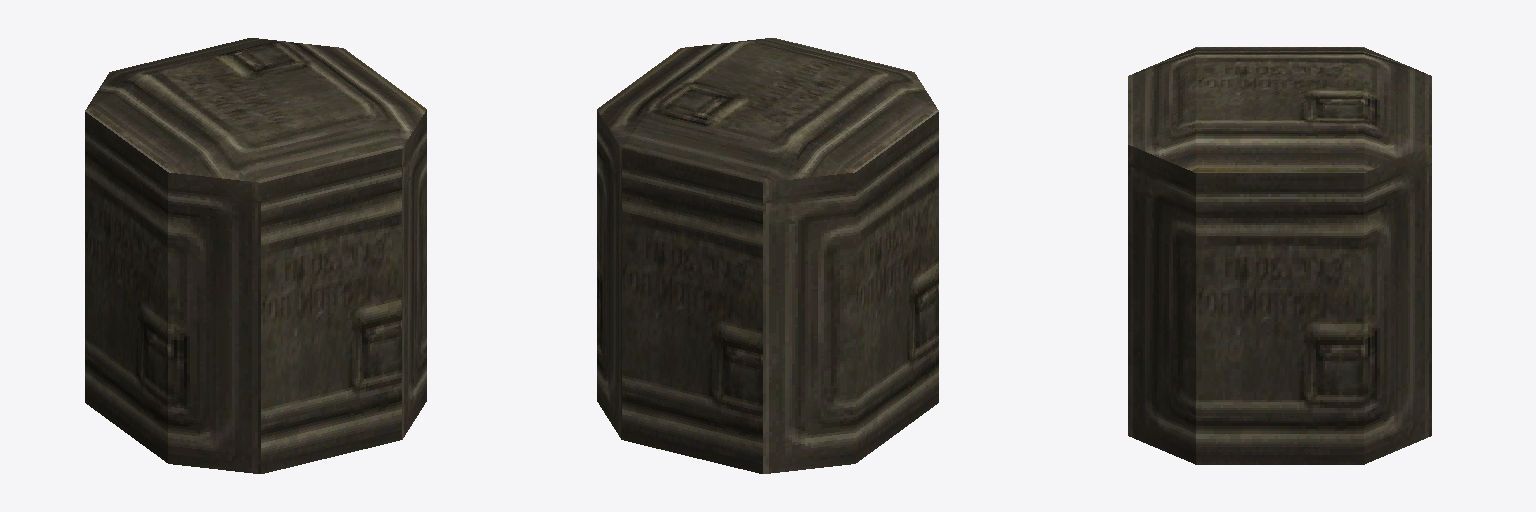
3 views of the same model, side by side, from view 1: azimuth 30°, elevation 25°; view 2: azimuth 150°, elevation 25°; view 3: azimuth 270°, elevation 25° (orthographic).
Parts seen in each view (by area): view 1: ammo_jackhammer.ammo_jackhammer.smd.mesh_0; view 2: ammo_jackhammer.ammo_jackhammer.smd.mesh_0; view 3: ammo_jackhammer.ammo_jackhammer.smd.mesh_0.
Part boxes in pixels (left/top/right/bottom): ammo_jackhammer.ammo_jackhammer.smd.mesh_0: left=85, top=38, right=426, bottom=473; ammo_jackhammer.ammo_jackhammer.smd.mesh_0: left=597, top=38, right=938, bottom=473; ammo_jackhammer.ammo_jackhammer.smd.mesh_0: left=1128, top=47, right=1431, bottom=464.
Size of the model in its own units: 14.67 by 18.04 by 14.88.
1 materials, 1 textured.